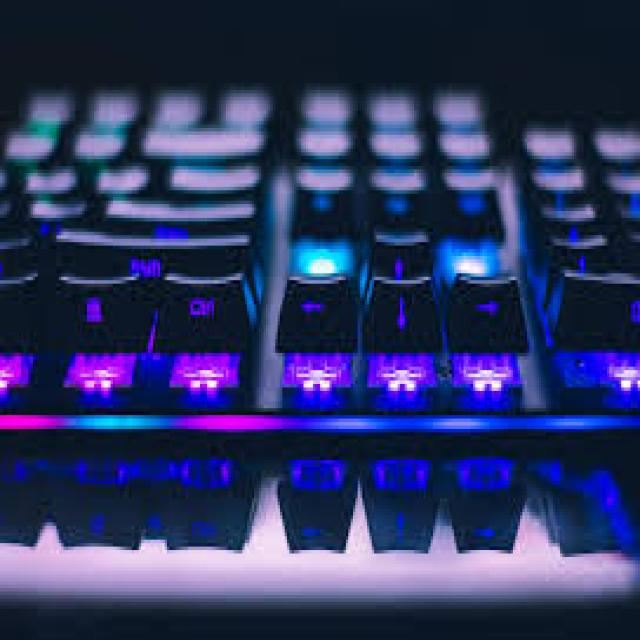keyboard: (12, 71, 635, 420)
